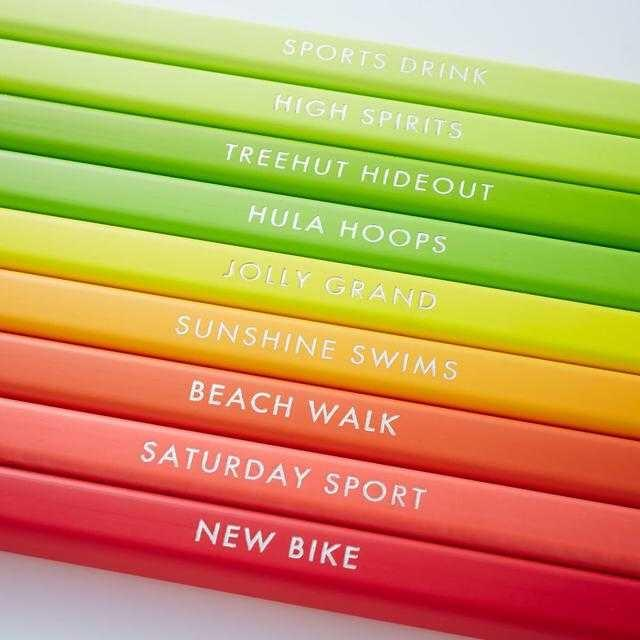pencil: (0, 393, 639, 576), (3, 330, 639, 508), (0, 85, 639, 262), (3, 200, 639, 374), (2, 466, 639, 639), (0, 36, 639, 202), (0, 153, 639, 308)
